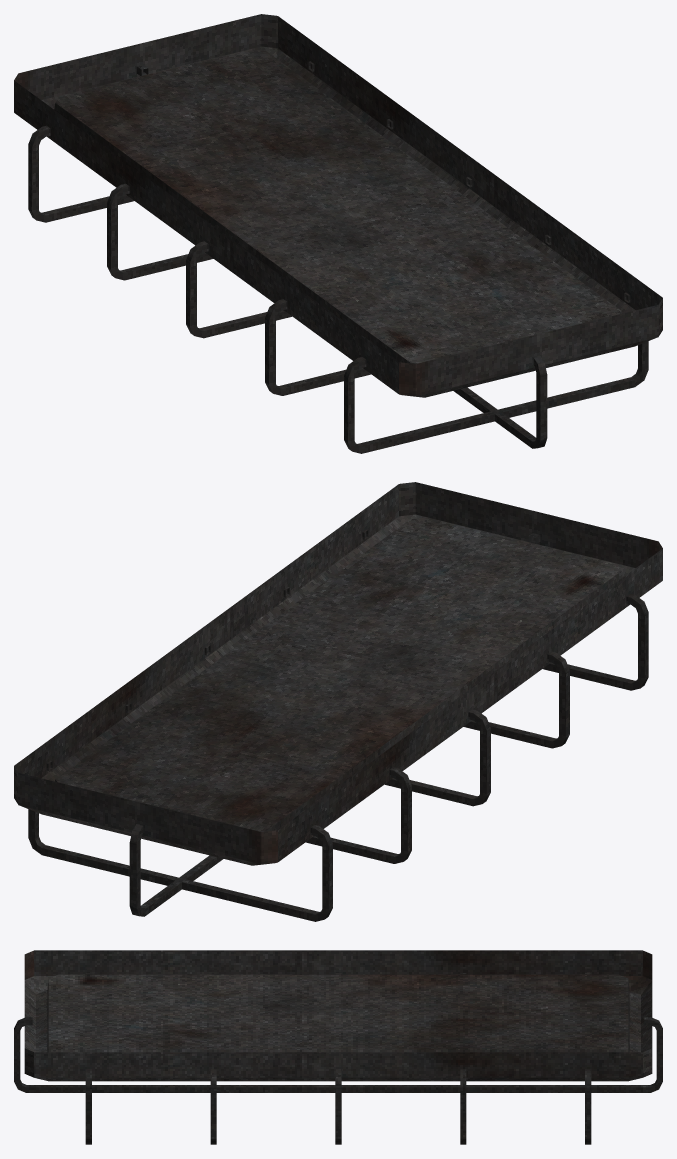
Rendered from ceiling_lamp_2_on.glb.
The picture shows the model from 3 angles, top to bottom: view 1: azimuth 30°, elevation 25°; view 2: azimuth 150°, elevation 25°; view 3: azimuth 270°, elevation 25°; orthographic projection. The views are drawn at different scales.
Visible parts, largest first — view 1: ceiling_lamp_2_on, ceiling_lamp_2_on_protector; view 2: ceiling_lamp_2_on, ceiling_lamp_2_on_protector; view 3: ceiling_lamp_2_on, ceiling_lamp_2_on_protector.
Part boxes in pixels (bbox=[...]): ceiling_lamp_2_on: bbox=[14, 14, 662, 397]; ceiling_lamp_2_on_protector: bbox=[28, 61, 648, 453]; ceiling_lamp_2_on: bbox=[14, 482, 662, 865]; ceiling_lamp_2_on_protector: bbox=[28, 529, 648, 921]; ceiling_lamp_2_on: bbox=[24, 950, 652, 1081]; ceiling_lamp_2_on_protector: bbox=[14, 967, 662, 1144].
Size of the model in its own units: 0.44 by 0.16 by 1.04.
Materials: 3 (3 with a texture image).
